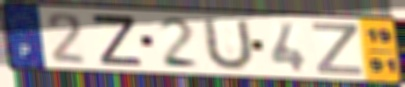2: (154, 17, 200, 69), (46, 11, 87, 66)
4: (269, 21, 309, 74)
U: (202, 15, 257, 73)
Z: (88, 12, 146, 68), (309, 21, 366, 77)
